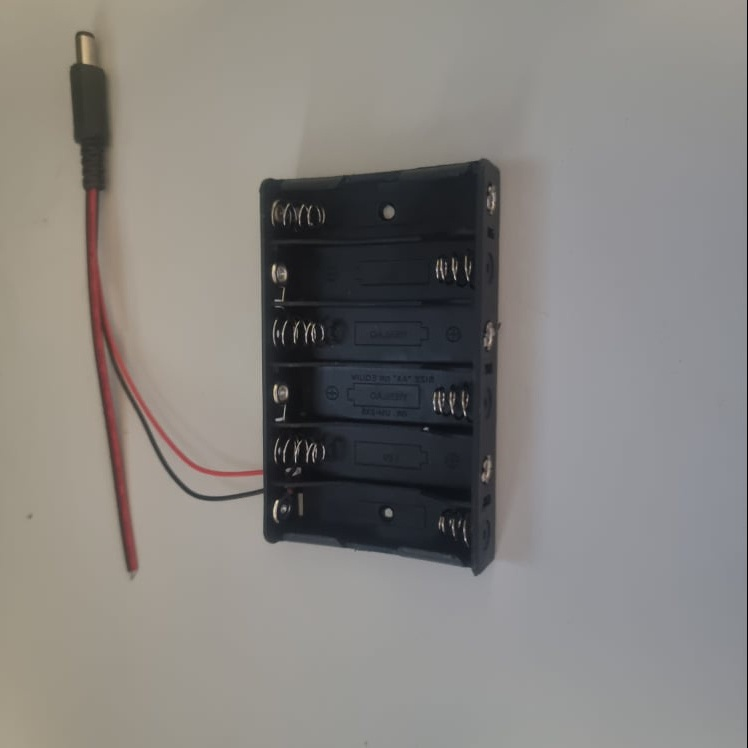BATTERY BOX: (259, 161, 505, 578)
